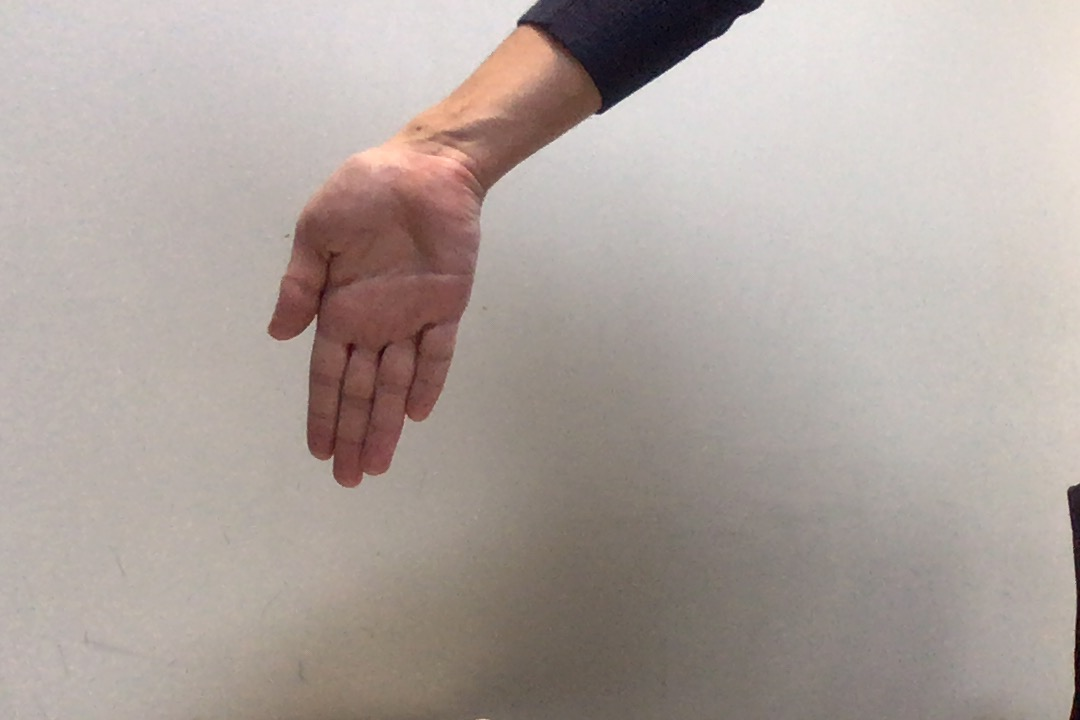palmhand: (263, 145, 486, 493)
